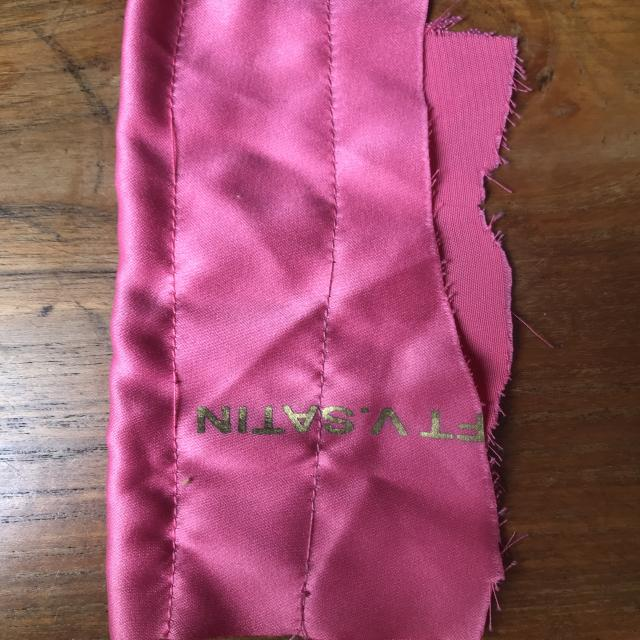skip: (138, 346, 192, 450), (282, 483, 332, 589), (159, 96, 205, 196), (307, 234, 356, 314)
